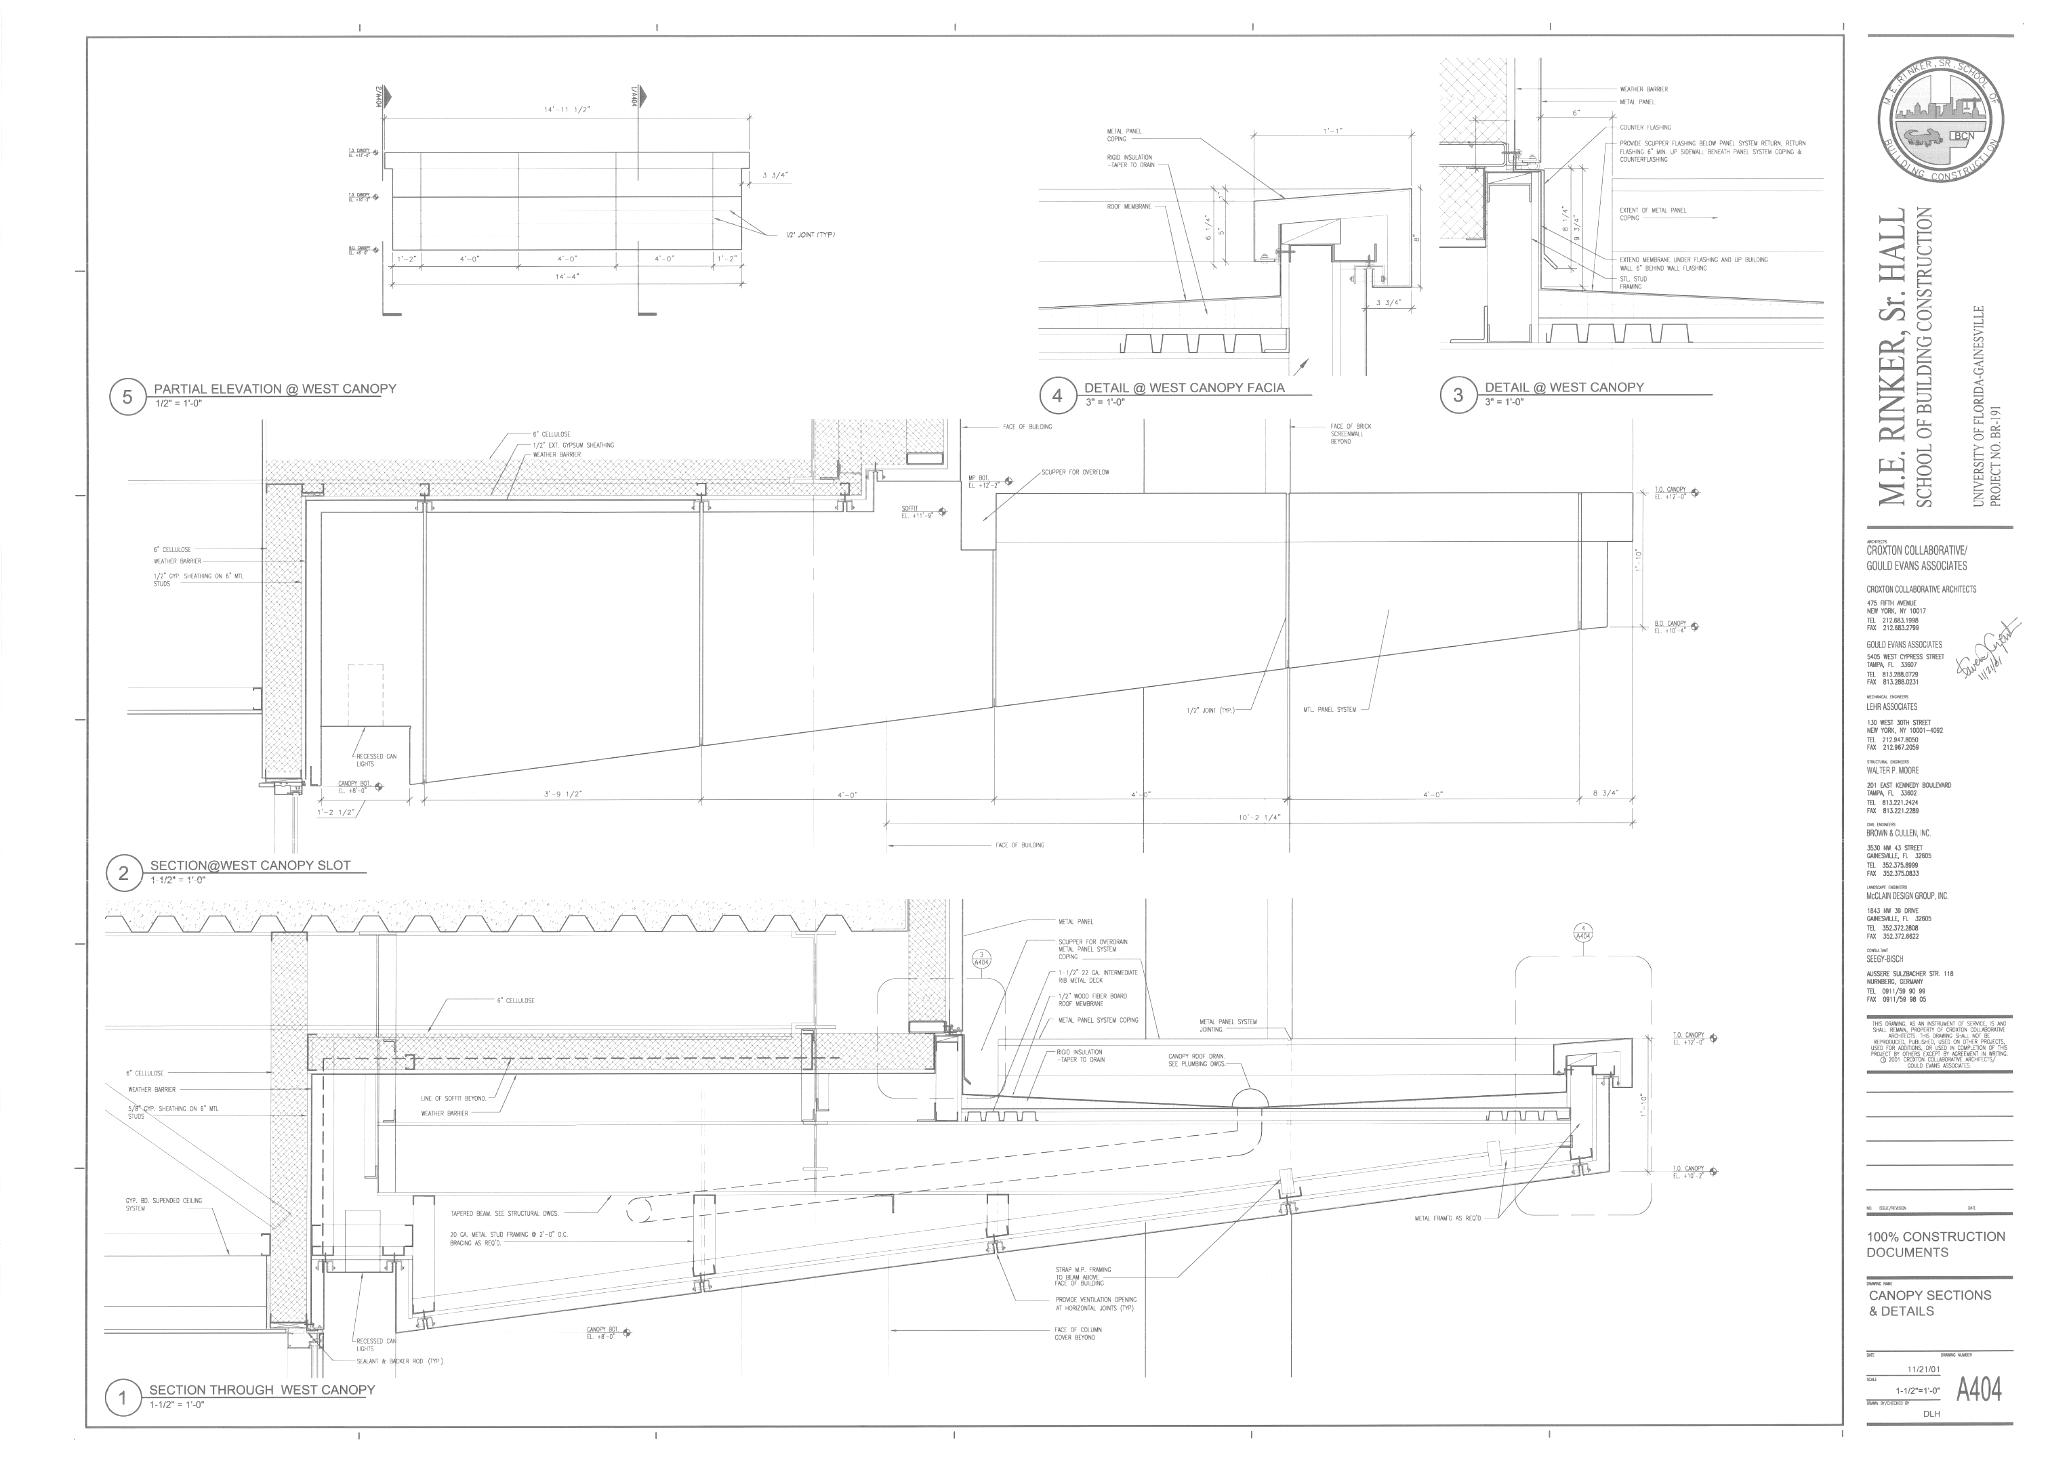elevation: (374, 81, 394, 184), (628, 81, 646, 184), (1572, 921, 1595, 956), (970, 947, 996, 978)
